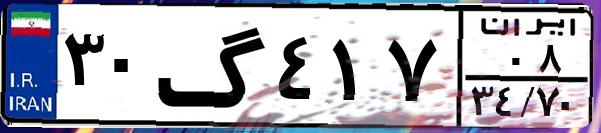0: (110, 28, 156, 98), (560, 70, 590, 125), (508, 27, 537, 80)
1: (330, 28, 385, 110)
3: (57, 26, 110, 100), (470, 70, 495, 125)
4: (270, 28, 330, 110), (495, 70, 520, 125)
7: (385, 28, 445, 110), (535, 70, 560, 125)
8: (537, 27, 568, 80)
گ: (156, 12, 270, 120)
